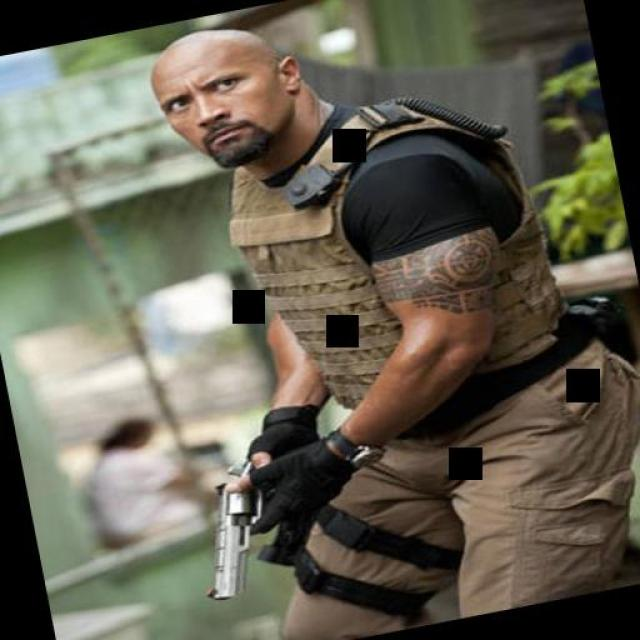gun: (170, 440, 385, 610)
